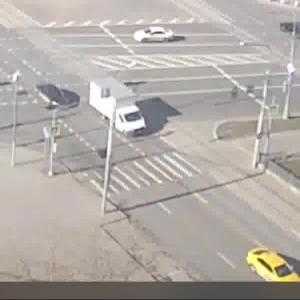car: (87, 75, 152, 140), (249, 241, 300, 282), (32, 82, 74, 115), (133, 26, 177, 47)
